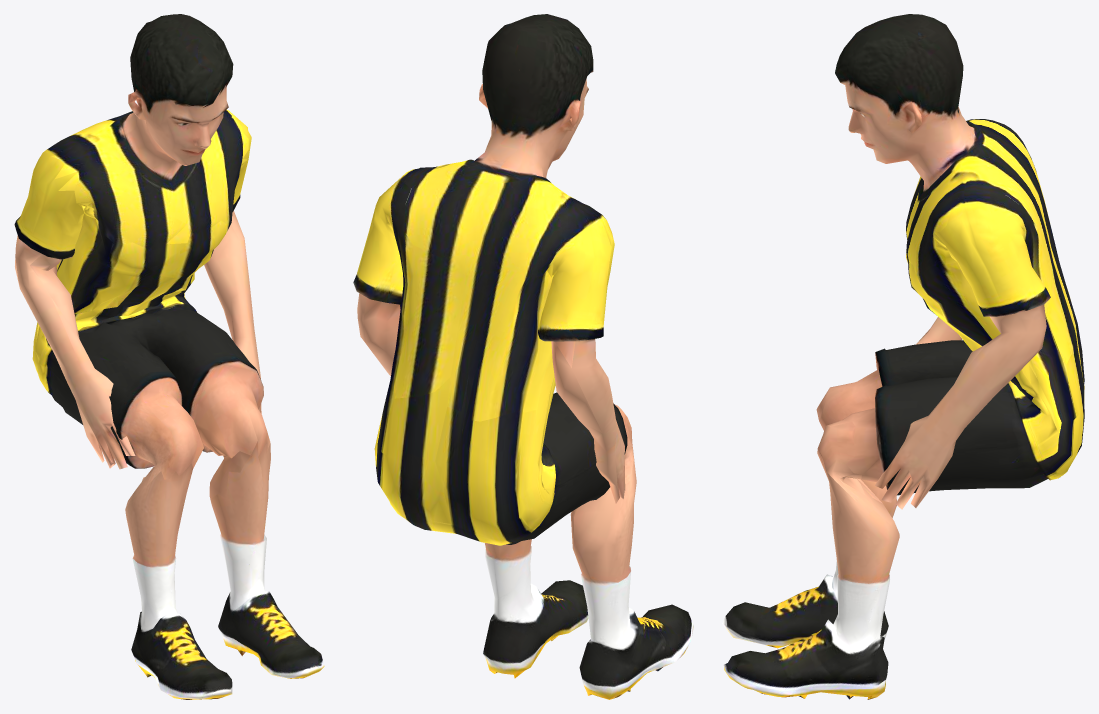
Rendered from fan_teen_lean.glb.
The picture shows the model from 3 angles, left to right: view 1: azimuth 30°, elevation 25°; view 2: azimuth 150°, elevation 25°; view 3: azimuth 270°, elevation 25°; orthographic projection. The views are drawn at different scales.
Visible parts, largest first — view 1: char1; view 2: char1; view 3: char1.
Boxes of the visible parts, <box> form: char1: <box>14,14,324,699</box>; char1: <box>353,14,693,699</box>; char1: <box>722,14,1084,699</box>.
Bounding box in the file's own units: 0.4732 × 1.28 × 0.6454.
1 material, 1 textured.
